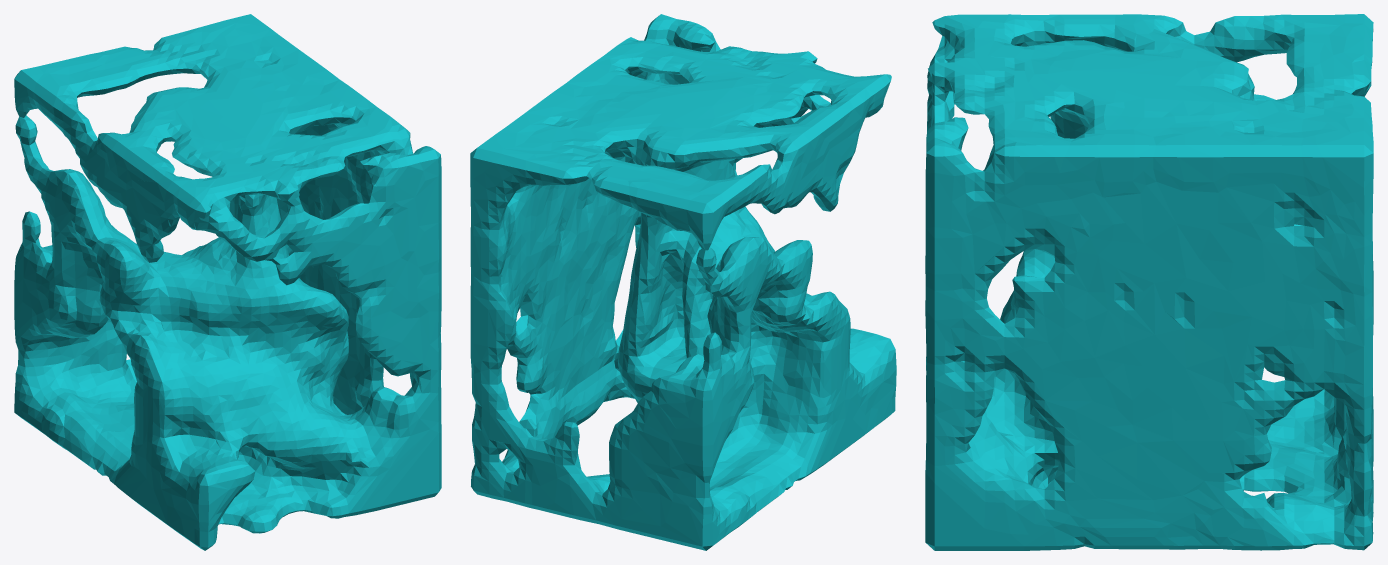
3 views of the same model, side by side, from view 1: azimuth 30°, elevation 25°; view 2: azimuth 150°, elevation 25°; view 3: azimuth 270°, elevation 25° (orthographic). The views are drawn at different scales.
Visible parts, largest first — view 1: Liquid_Domain; view 2: Liquid_Domain; view 3: Liquid_Domain.
Part boxes in pixels (left/top/right/bottom): Liquid_Domain: left=14, top=14, right=441, bottom=550; Liquid_Domain: left=470, top=14, right=896, bottom=550; Liquid_Domain: left=925, top=14, right=1373, bottom=550.
Size of the model in its own units: 79.09 by 108 by 108.
